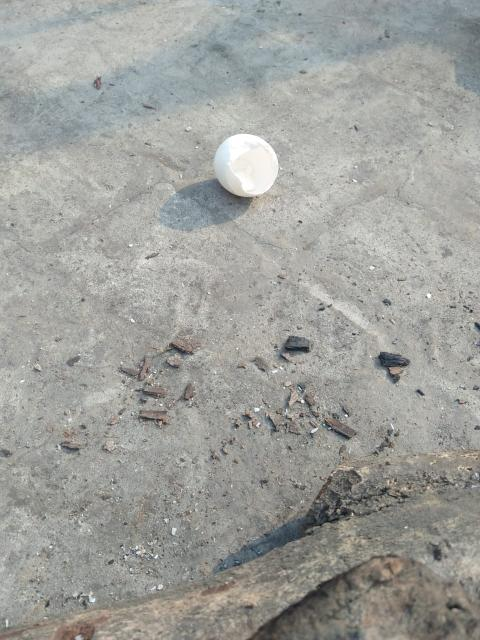Roto: (212, 132, 279, 198)
